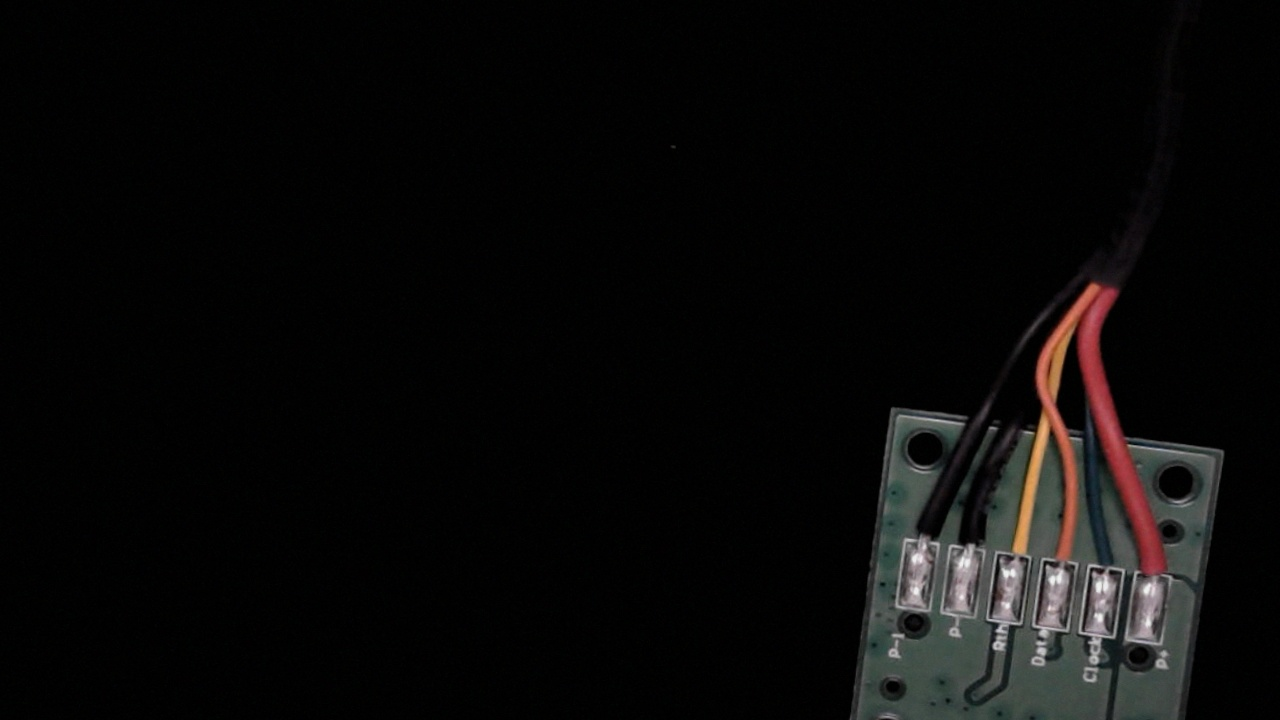Black: (946, 494, 997, 569)
Black1: (901, 484, 951, 562)
Green: (1084, 520, 1134, 590)
Orange: (1039, 506, 1089, 580)
Red: (1130, 511, 1185, 593)
Yellow: (995, 500, 1045, 577)
